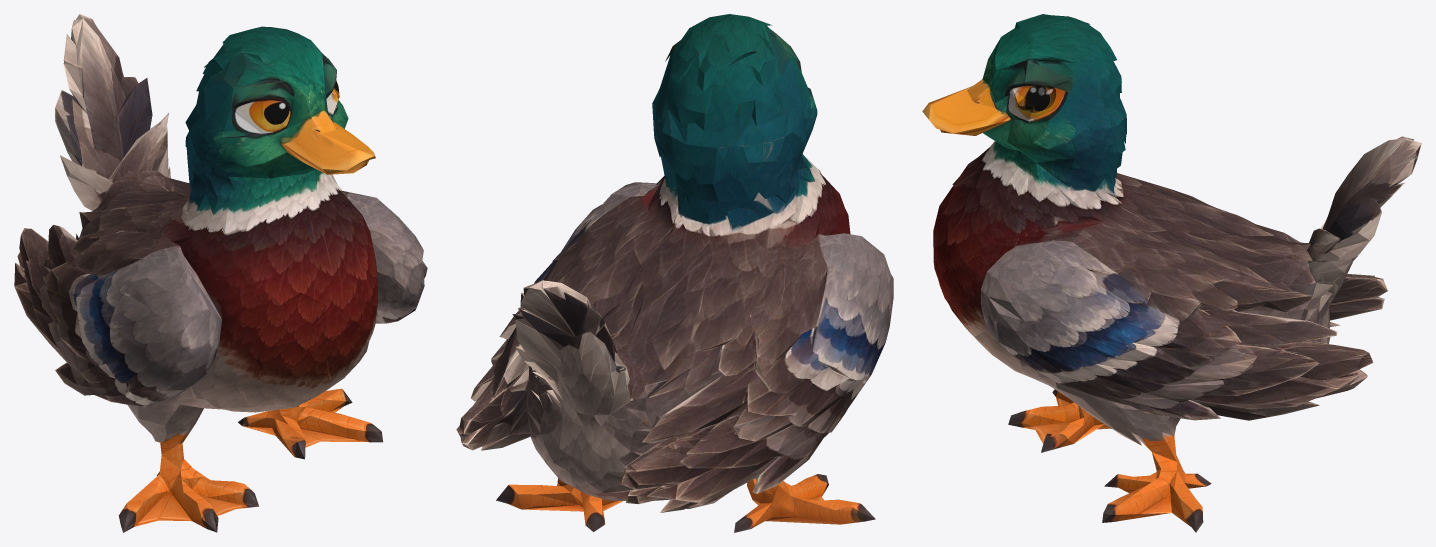
File: duck.glb
3 views of the same model, side by side, from view 1: azimuth 30°, elevation 25°; view 2: azimuth 150°, elevation 25°; view 3: azimuth 270°, elevation 25° (orthographic). The views are drawn at different scales.
Bounding box in the file's own units: 0.3523 × 0.5 × 0.5162.
1 material, 1 textured.
